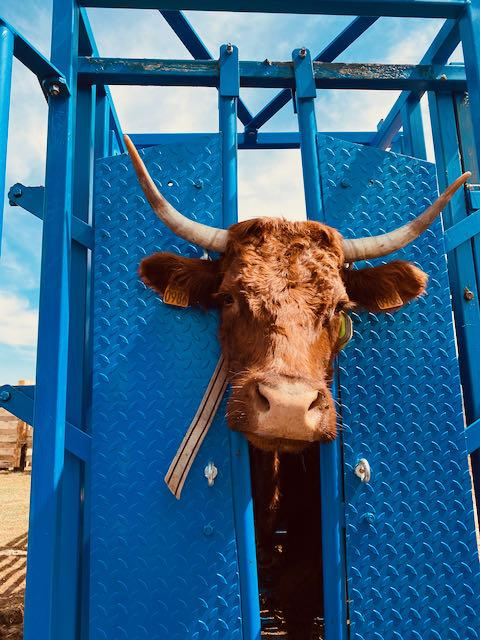muzzles: (224, 365, 339, 454)
